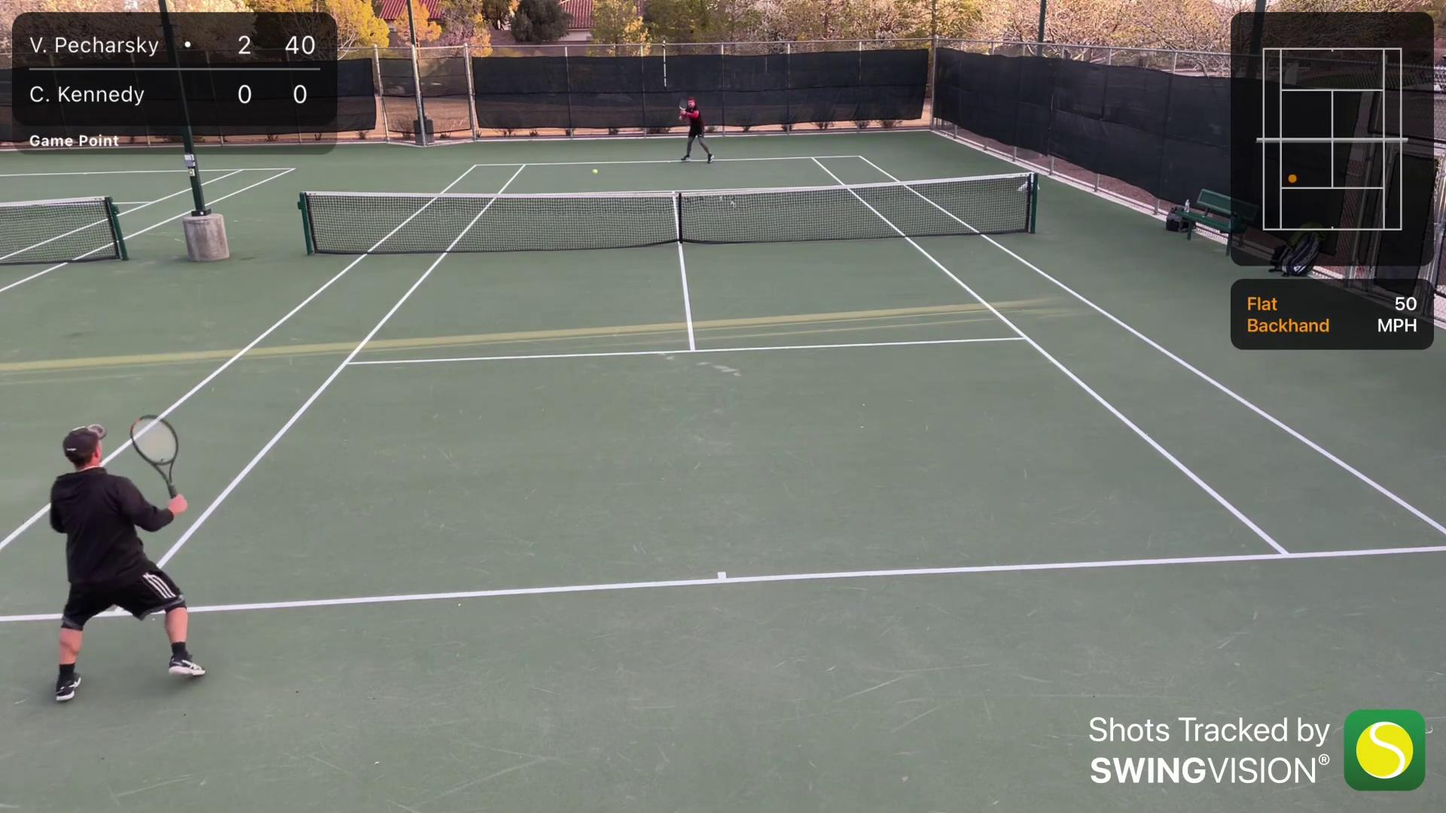ball: (593, 168, 600, 175)
